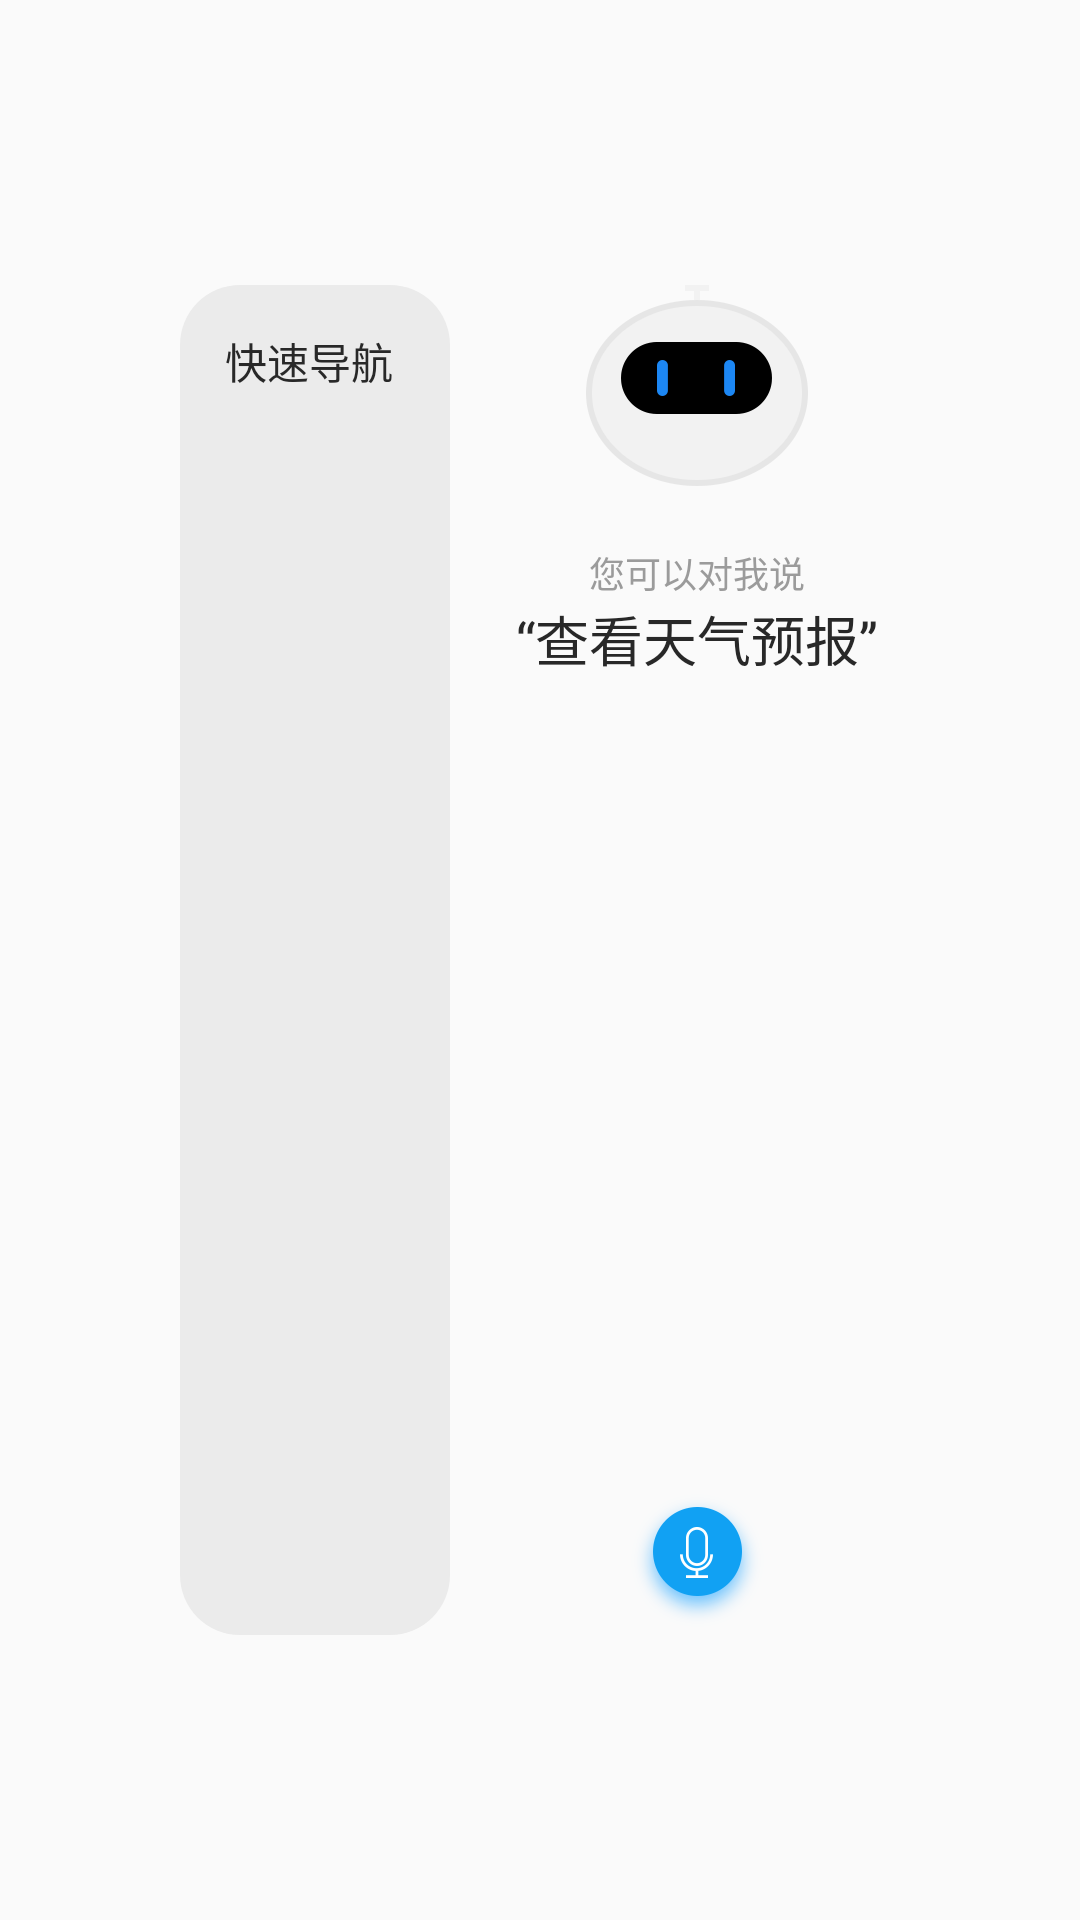

Named icons in this screenshot (1080 x 1920) and their bounding boxes, (x1, y1, x2, y2):
voice robot: (621, 342, 772, 414)
voice talk: (645, 1507, 750, 1613)
